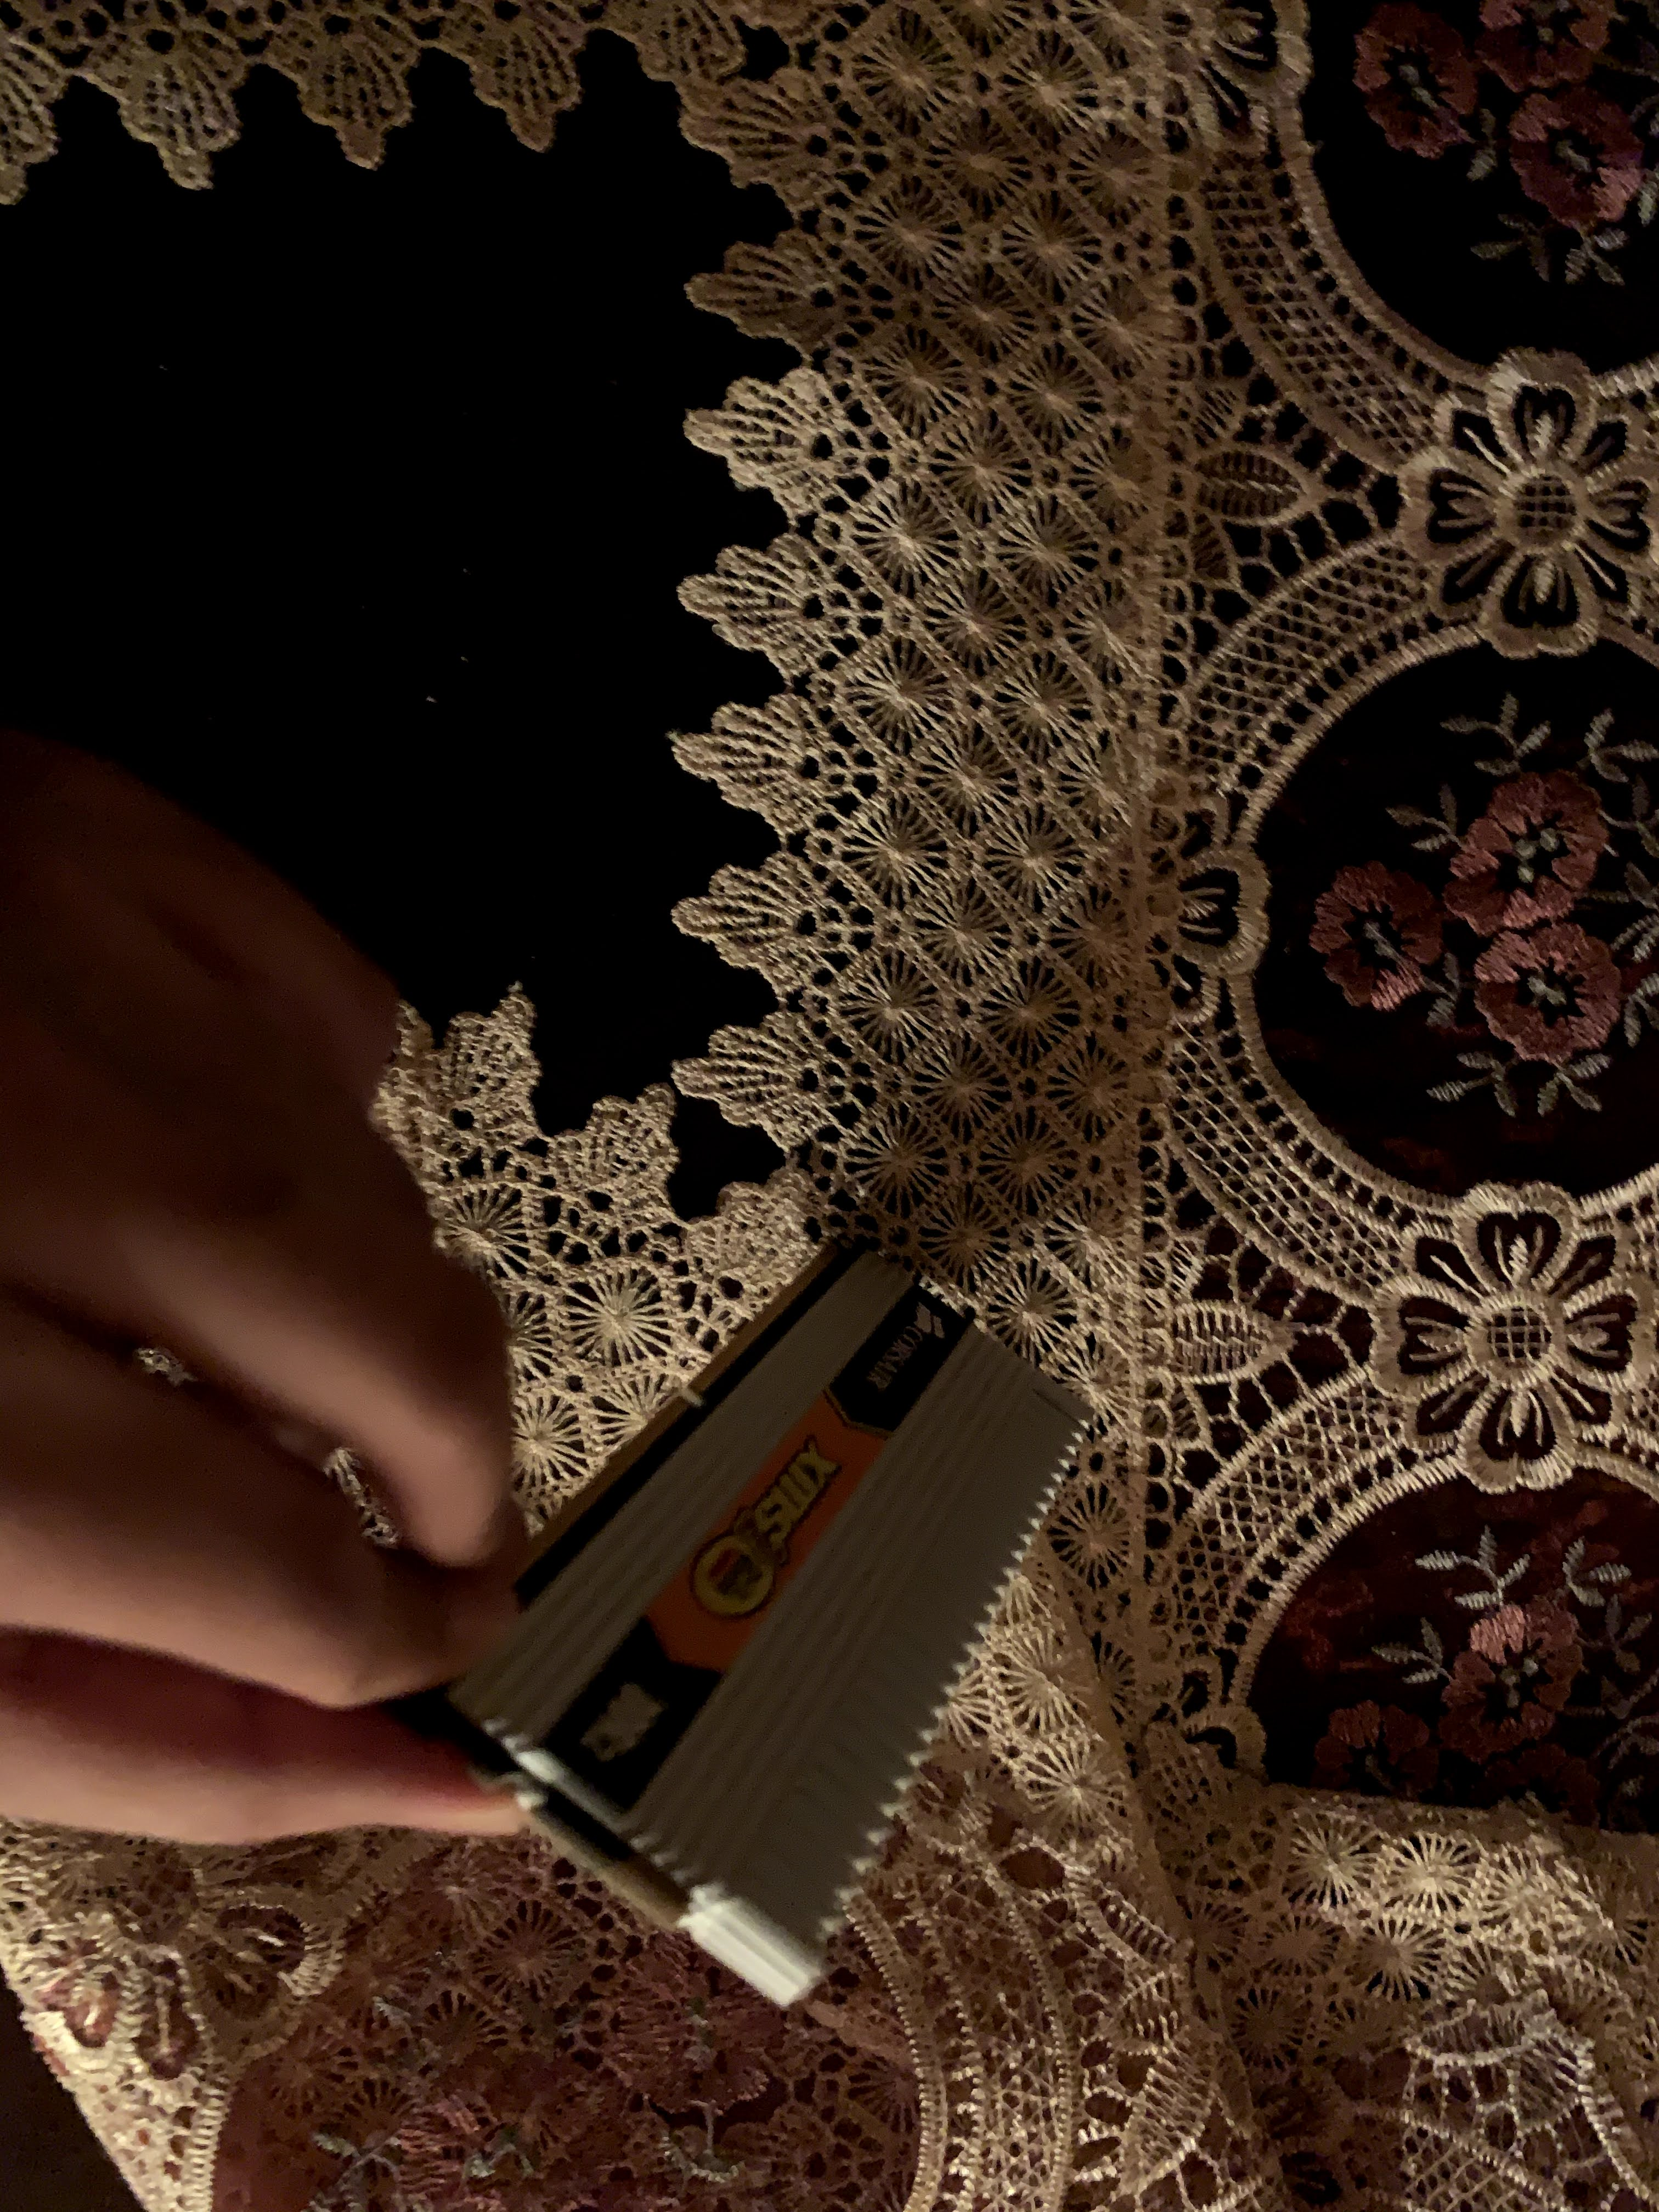Space-debris-medium: (375, 1190, 1202, 2029)
